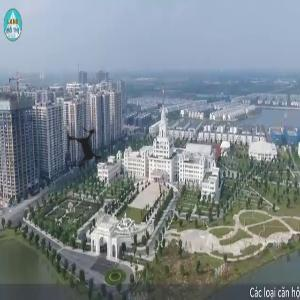drone: (43, 109, 123, 189)
